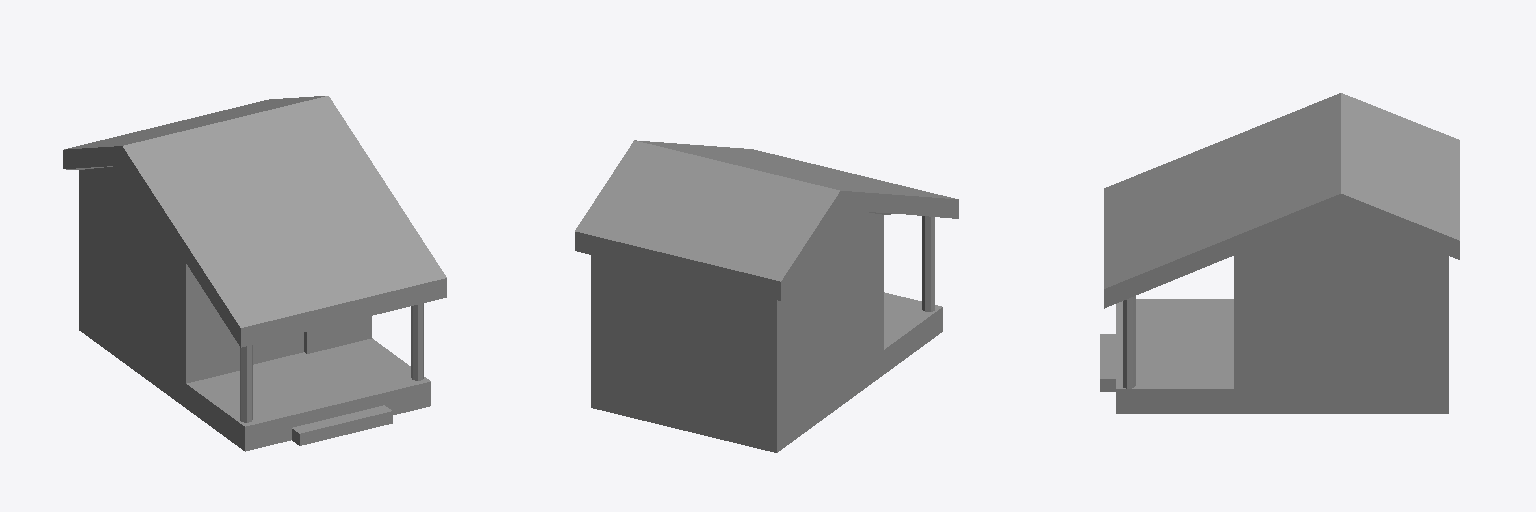
Rendered from SimpleHouse.obj.
3 views of the same model, side by side, from view 1: azimuth 30°, elevation 25°; view 2: azimuth 150°, elevation 25°; view 3: azimuth 270°, elevation 25° (orthographic).
Visible parts, largest first — view 1: Cylinder.001; view 2: Cylinder.001; view 3: Cylinder.001.
Boxes of the visible parts, x1,y1,x2,y2 form: Cylinder.001: [63, 96, 446, 451]; Cylinder.001: [575, 140, 958, 452]; Cylinder.001: [1100, 93, 1459, 413].
Size of the model in its own units: 2.22 by 2.32 by 3.35.